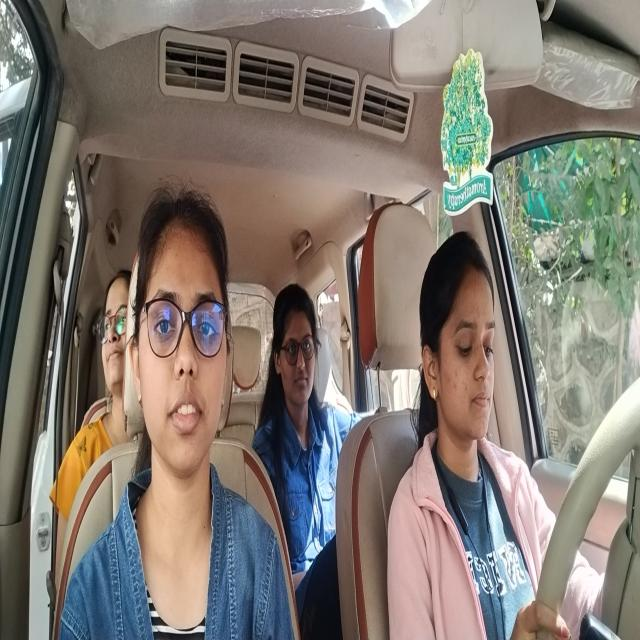drowsy: (417, 221, 497, 463)
person: (132, 189, 230, 488), (270, 277, 324, 410), (99, 274, 130, 417)
